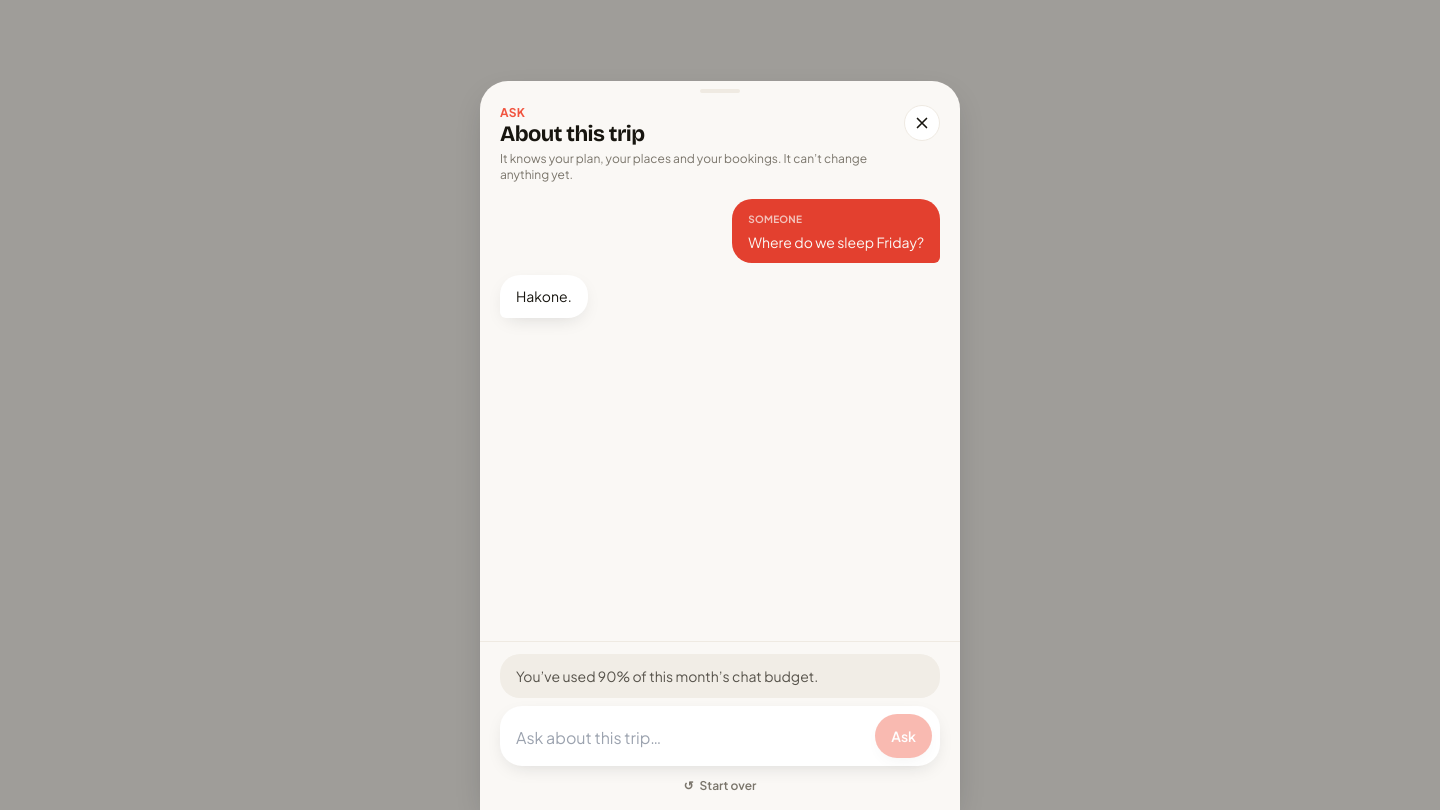
it: starting a new conversation › does not hand back the month’s budget with the messages
Step 1. Click the button "↺ Start over" → {"x": 720, "y": 786}, box [672, 774, 768, 798]
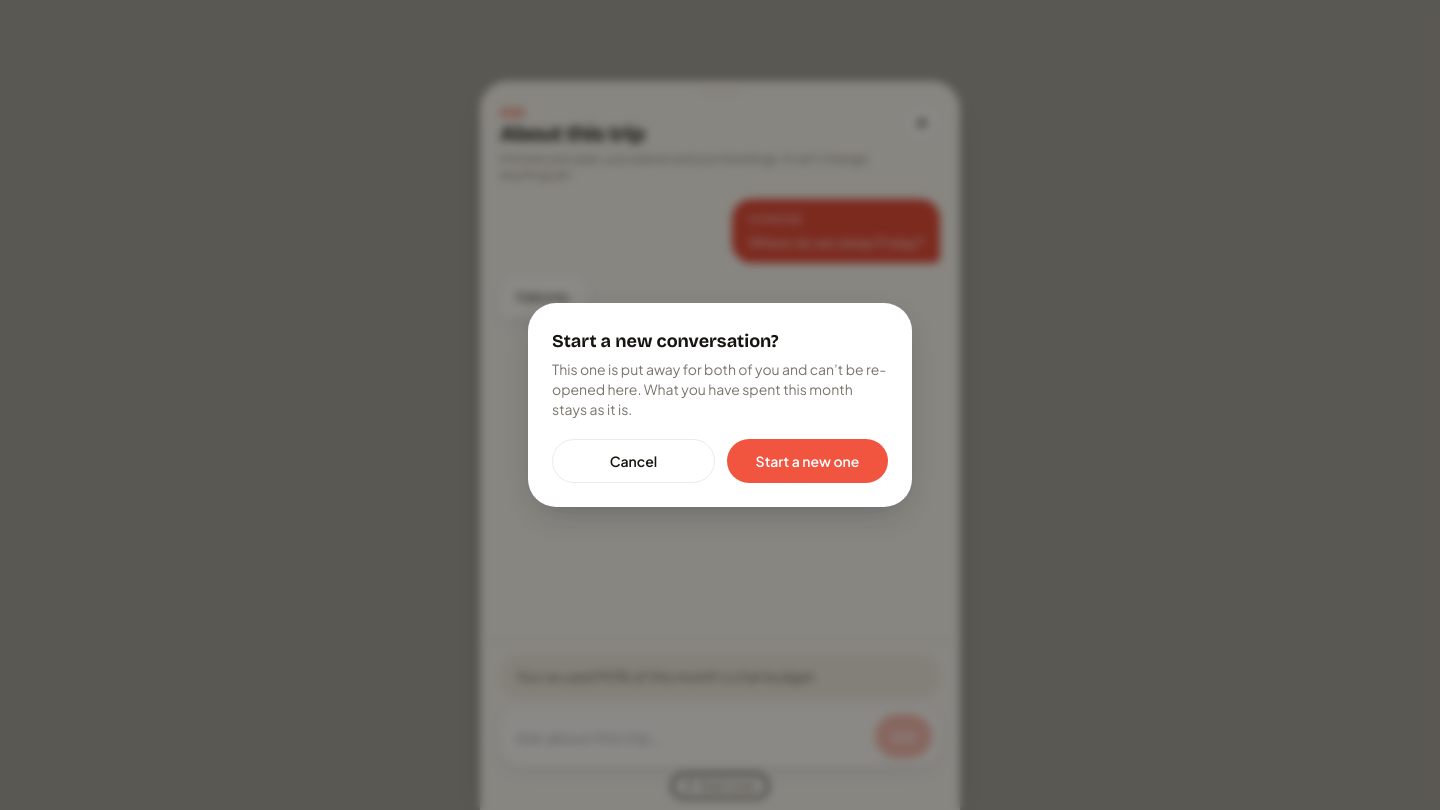
Step 2. Click the button "Start a new one" → {"x": 808, "y": 461}, box [727, 439, 888, 483]
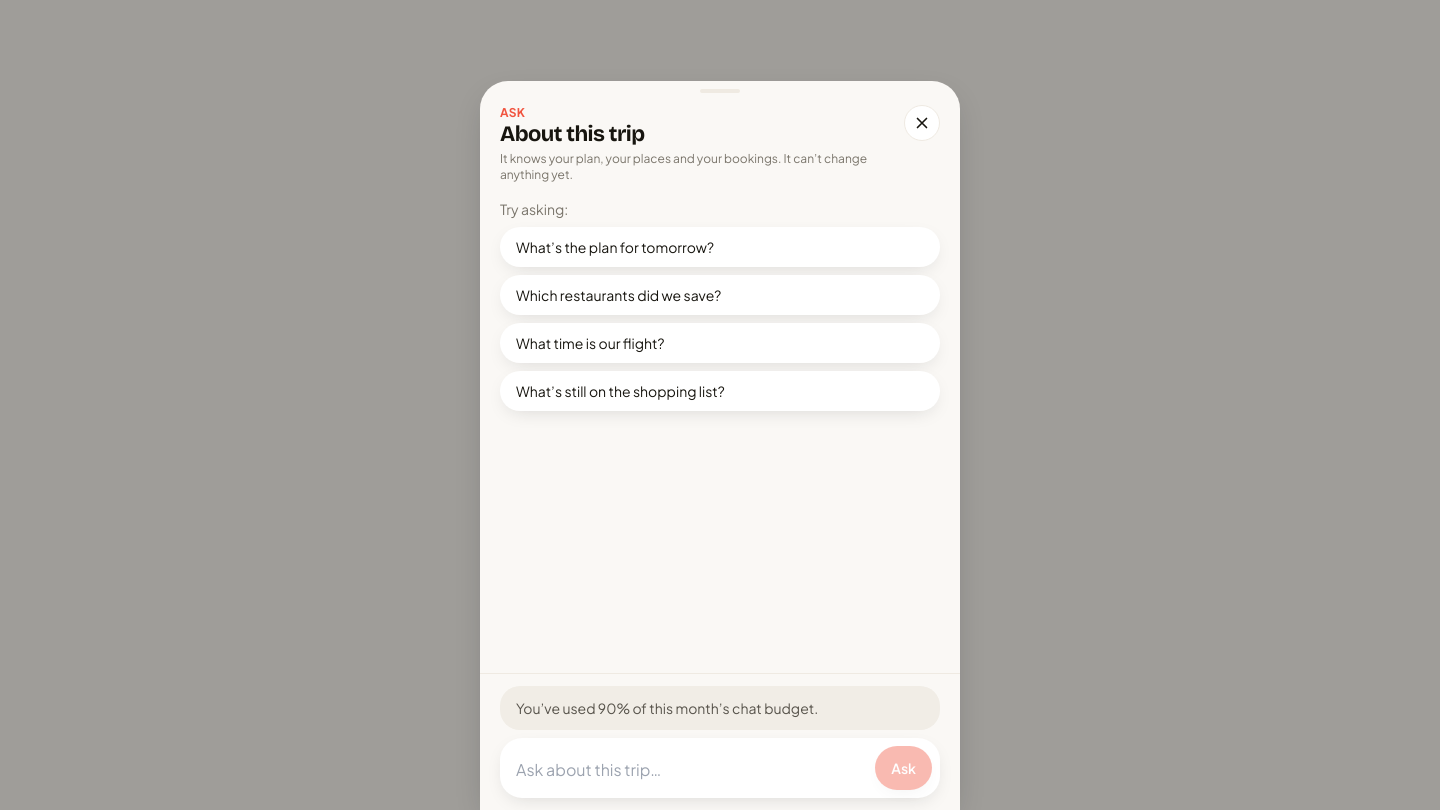
Expected: the text "You’ve used 90% of this month’s chat budget." is shown, [500, 686, 940, 730]
Expected: the text "Hakone." is gone
